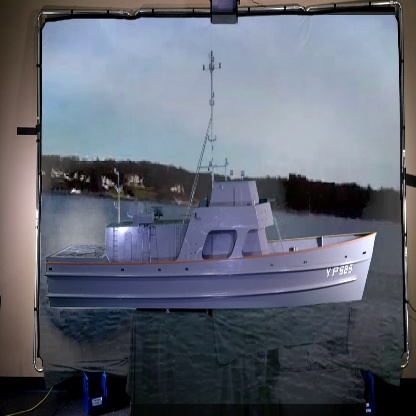YP689: (44, 49, 377, 314)
